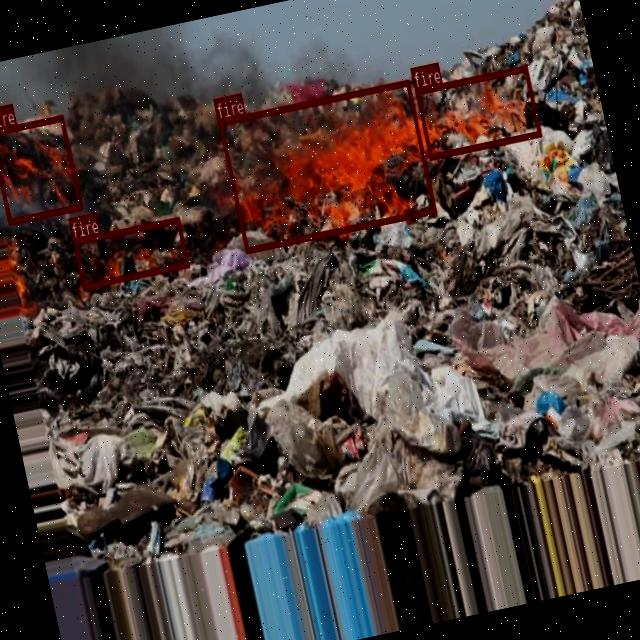fire: (217, 78, 436, 253), (414, 64, 540, 158), (0, 114, 81, 223), (72, 215, 188, 288)
